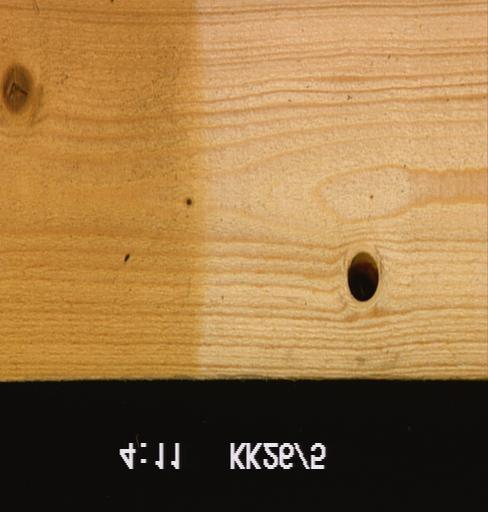small_knot: (181, 193, 196, 212)
sound_knot: (0, 59, 34, 118)
